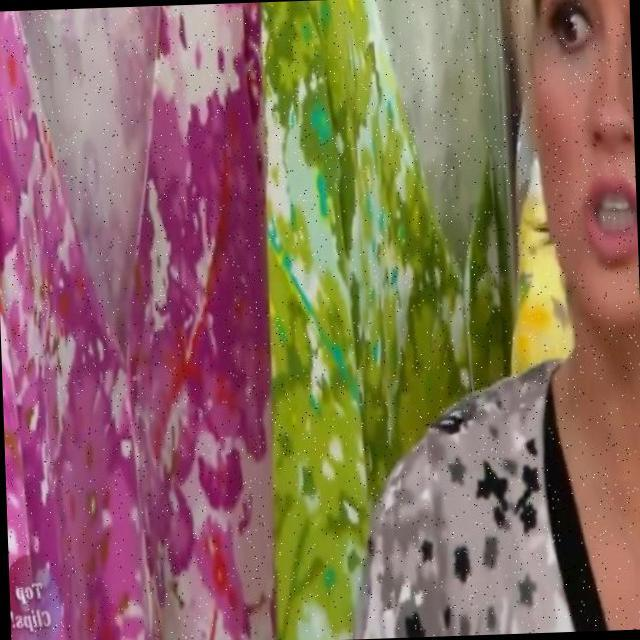person: (399, 0, 640, 637)
